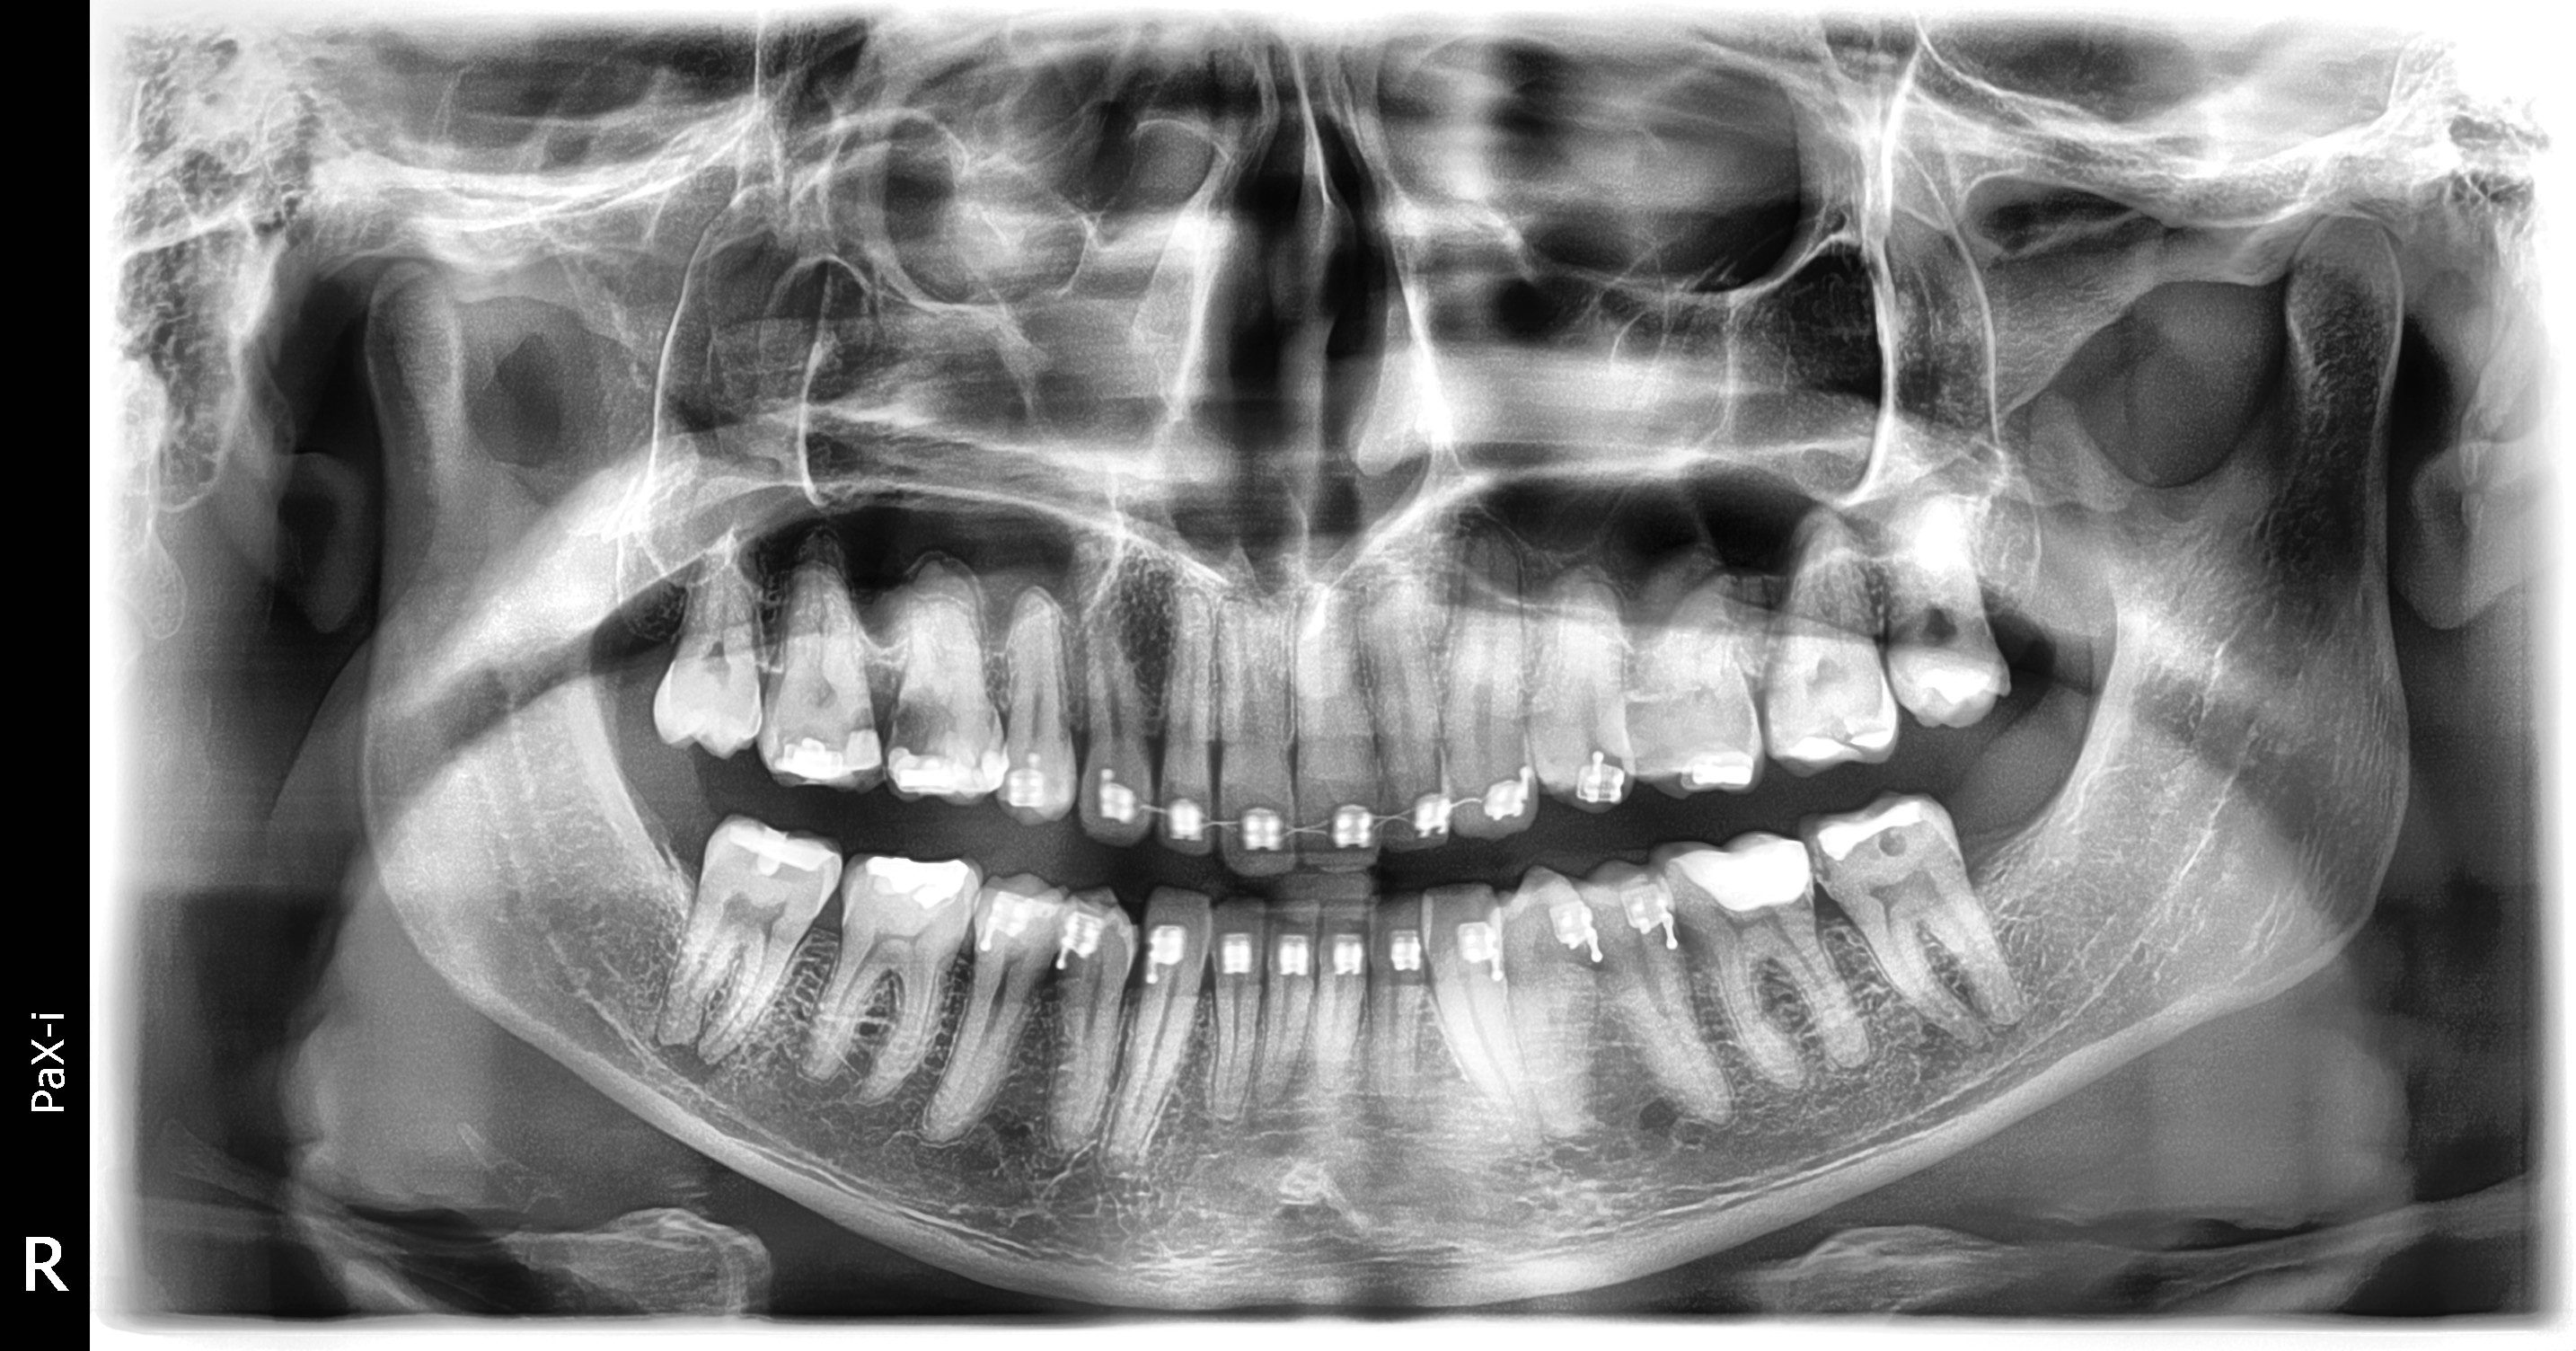API: (646, 1009, 753, 1092)
CAR: (886, 698, 952, 755), (1808, 823, 1843, 882), (843, 707, 888, 750)
OBT: (1688, 835, 1820, 923), (729, 823, 831, 881), (1833, 785, 1923, 847), (765, 743, 879, 790), (1678, 744, 1760, 799), (1828, 714, 1905, 755)
ORD: (939, 865, 1682, 983), (1000, 748, 1663, 862)
